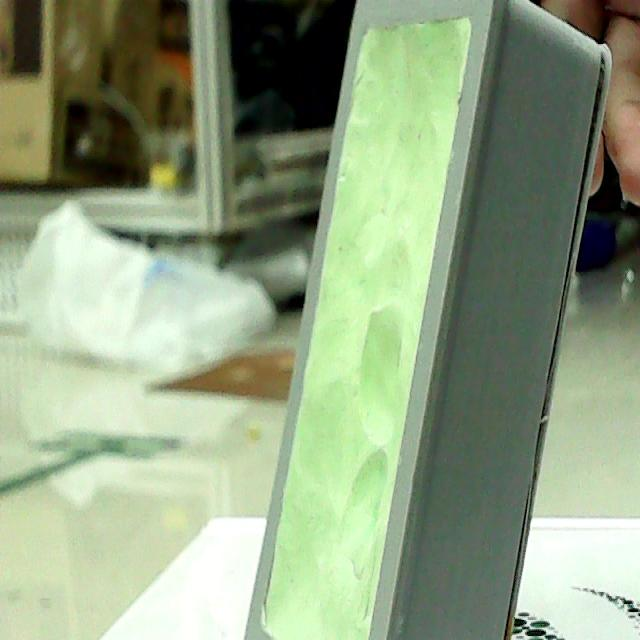block: (241, 0, 618, 640)
